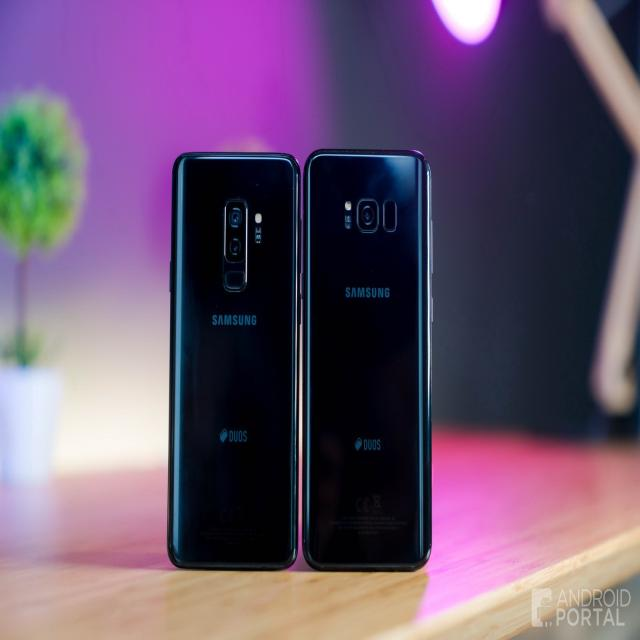mobile phone: (301, 146, 433, 573), (167, 149, 300, 571)
